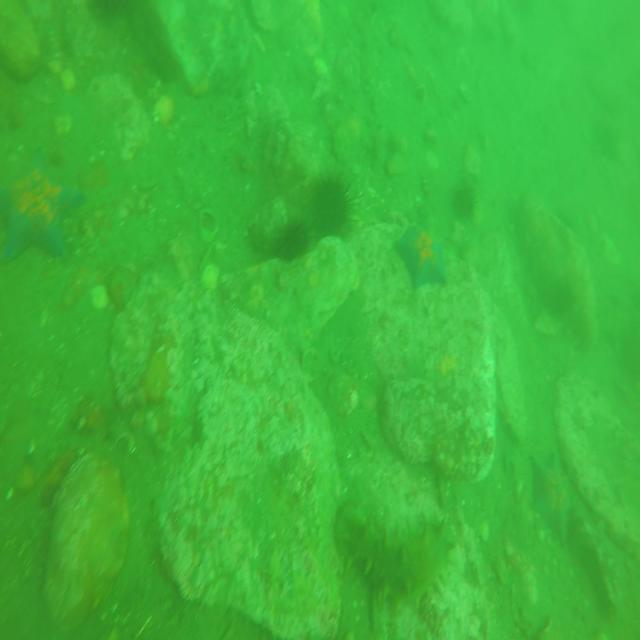echinus: (306, 168, 357, 244), (272, 220, 312, 266), (447, 177, 478, 222)
holothurian: (330, 494, 452, 594)
scallop: (45, 454, 130, 629)
starfish: (0, 154, 82, 265), (528, 448, 579, 536), (393, 222, 446, 291)
